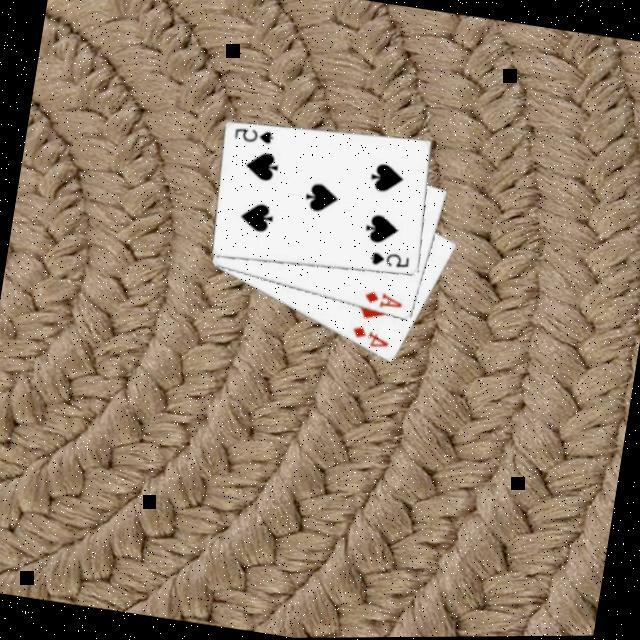4D: (345, 322, 392, 353)
5S: (364, 246, 412, 272), (229, 122, 276, 148)
AD: (358, 286, 406, 314)
